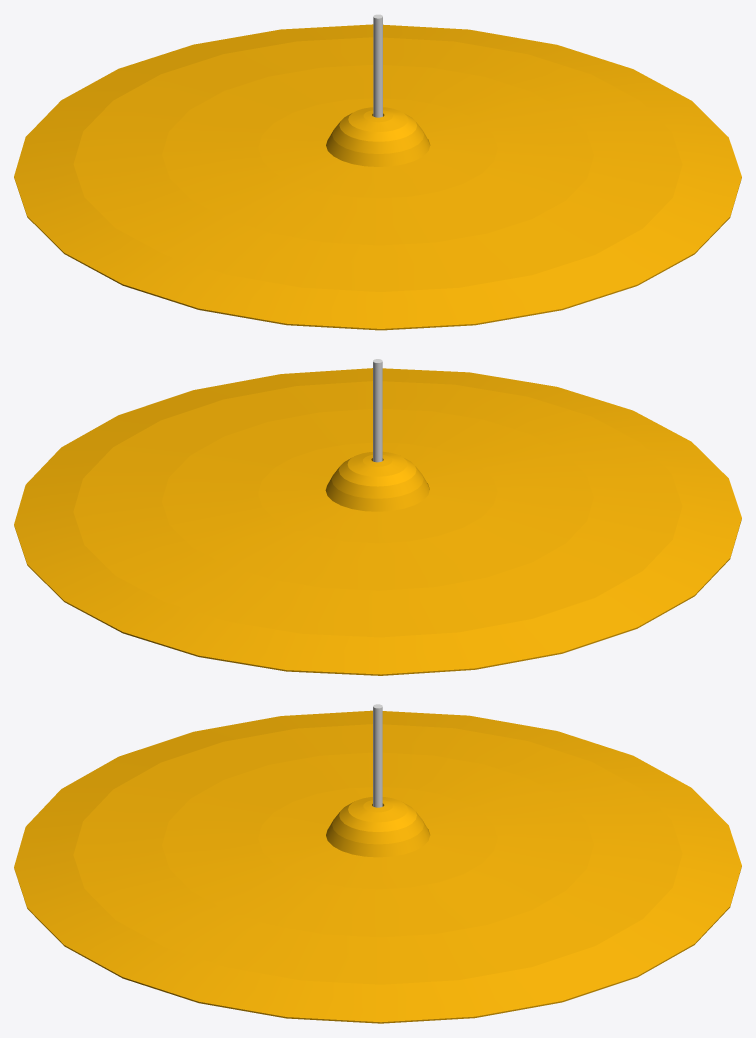
The model's file is hat.DAE.
3 renders of one model, top to bottom at view 1: azimuth 30°, elevation 25°; view 2: azimuth 150°, elevation 25°; view 3: azimuth 270°, elevation 25°, orthographic.
Visible parts, largest first — view 1: Révolution.1, Révolution, Cylindre; view 2: Révolution.1, Révolution, Cylindre; view 3: Révolution.1, Révolution, Cylindre.
Boxes of the visible parts, bbox=[...] form: Révolution.1: bbox=[14, 24, 741, 330]; Révolution: bbox=[326, 107, 430, 166]; Cylindre: bbox=[373, 14, 382, 117]; Révolution.1: bbox=[14, 368, 741, 675]; Révolution: bbox=[325, 451, 429, 511]; Cylindre: bbox=[373, 359, 382, 462]; Révolution.1: bbox=[14, 710, 741, 1023]; Révolution: bbox=[326, 797, 429, 857]; Cylindre: bbox=[373, 704, 382, 807].
Size of the model in its own units: 30.04 by 13.71 by 30.04.
